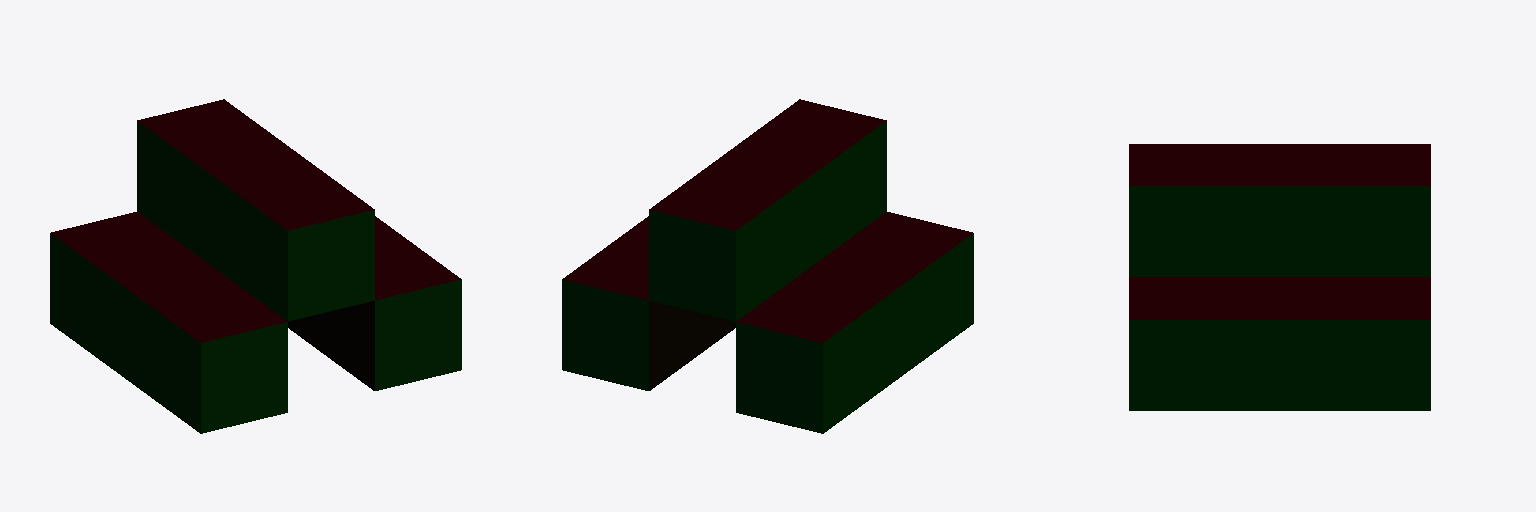
File: tent_blend_13.obj
The picture shows the model from 3 angles: view 1: azimuth 30°, elevation 25°; view 2: azimuth 150°, elevation 25°; view 3: azimuth 270°, elevation 25°; orthographic projection.
Visible parts, largest first — view 1: tent; view 2: tent; view 3: tent.
Boxes of the visible parts, <box> form: tent: <box>50,99,461,433</box>; tent: <box>562,99,973,433</box>; tent: <box>1129,144,1430,410</box>.
Size of the model in its own units: 1.5 by 1 by 1.5.